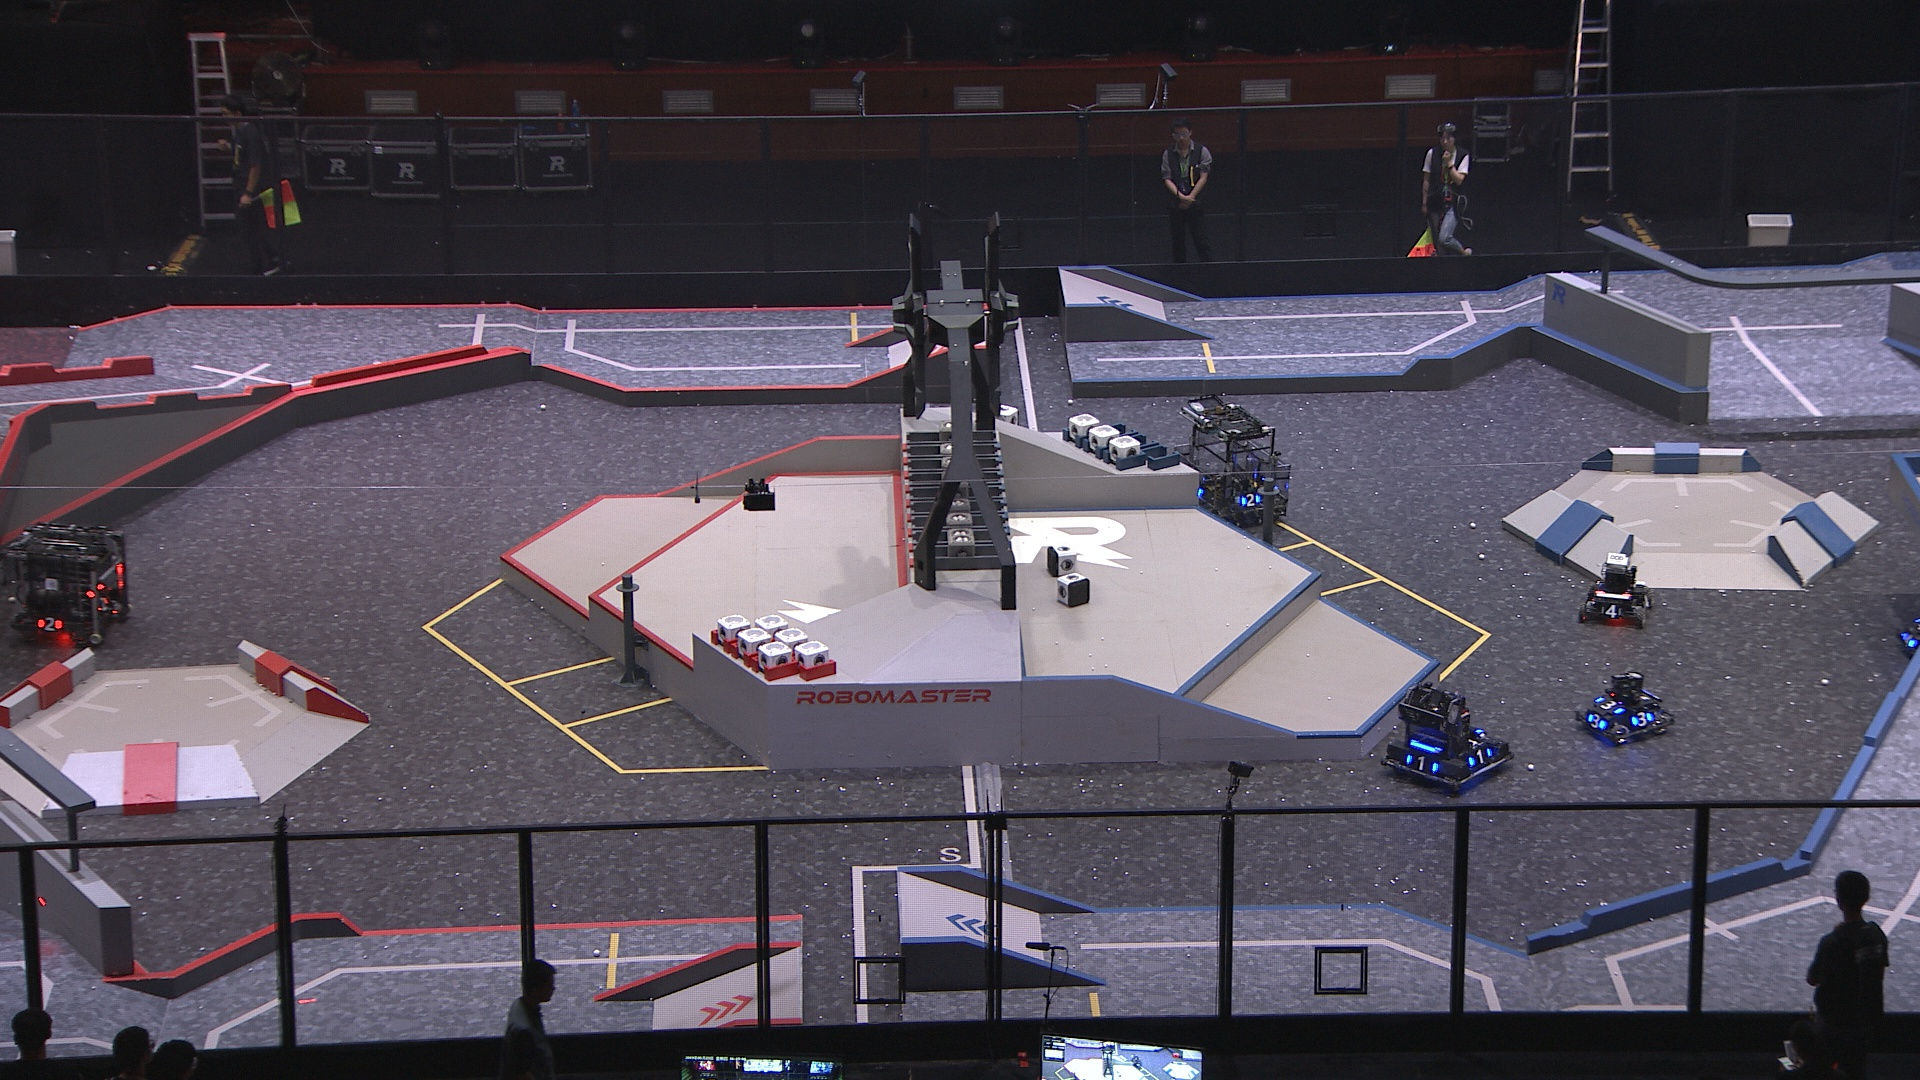armor: (1596, 694, 1626, 716), (1466, 744, 1490, 769), (1404, 754, 1436, 773), (1458, 731, 1481, 756), (1584, 721, 1610, 742), (1600, 603, 1623, 621), (36, 618, 65, 632), (1240, 491, 1262, 506), (1903, 626, 1917, 650), (1633, 708, 1650, 728), (95, 593, 111, 615)
car: (1176, 396, 1300, 531), (1386, 687, 1509, 790), (1569, 670, 1673, 746), (1577, 553, 1660, 628), (1894, 585, 1920, 678)
